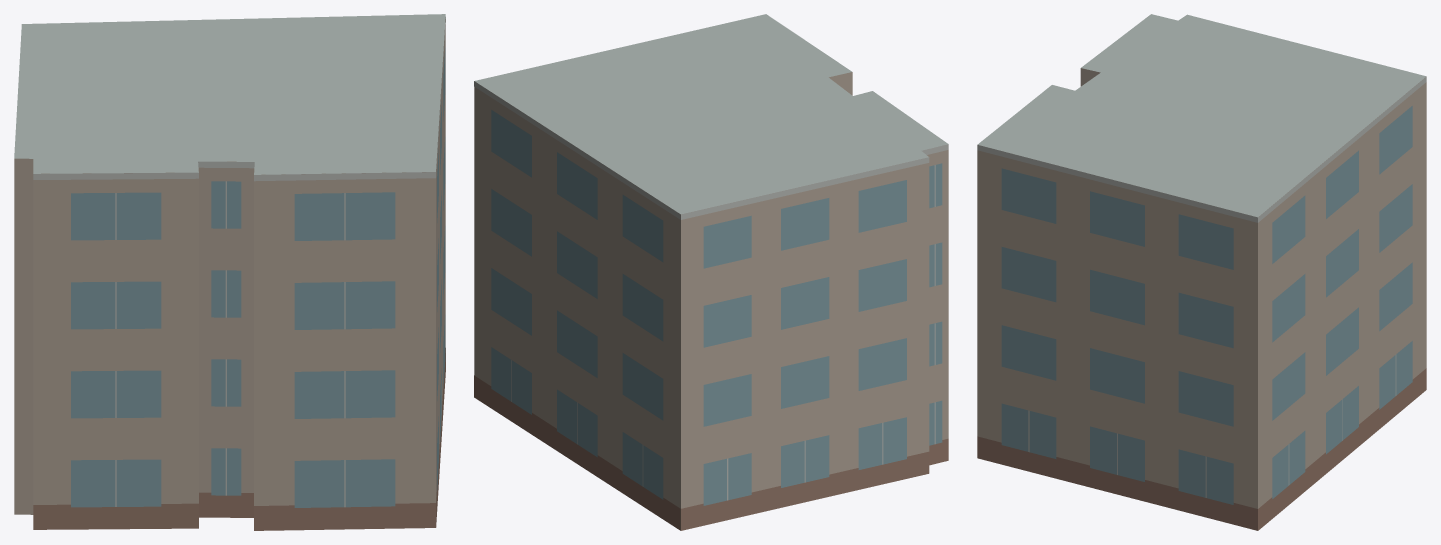
Rendered from survey-upis-32840136.glb.
3 renders of one model, left to right at view 1: azimuth 30°, elevation 25°; view 2: azimuth 150°, elevation 25°; view 3: azimuth 270°, elevation 25°, orthographic. The views are drawn at different scales.
Visible parts, largest first — view 1: survey-upis-32840136.tmp; view 2: survey-upis-32840136.tmp; view 3: survey-upis-32840136.tmp.
Part boxes in pixels (x1,y1,x2,y2): survey-upis-32840136.tmp: [14, 14, 445, 530]; survey-upis-32840136.tmp: [474, 14, 948, 530]; survey-upis-32840136.tmp: [977, 14, 1426, 530].
Bounding box in the file's own units: 19.28 × 13.85 × 18.
